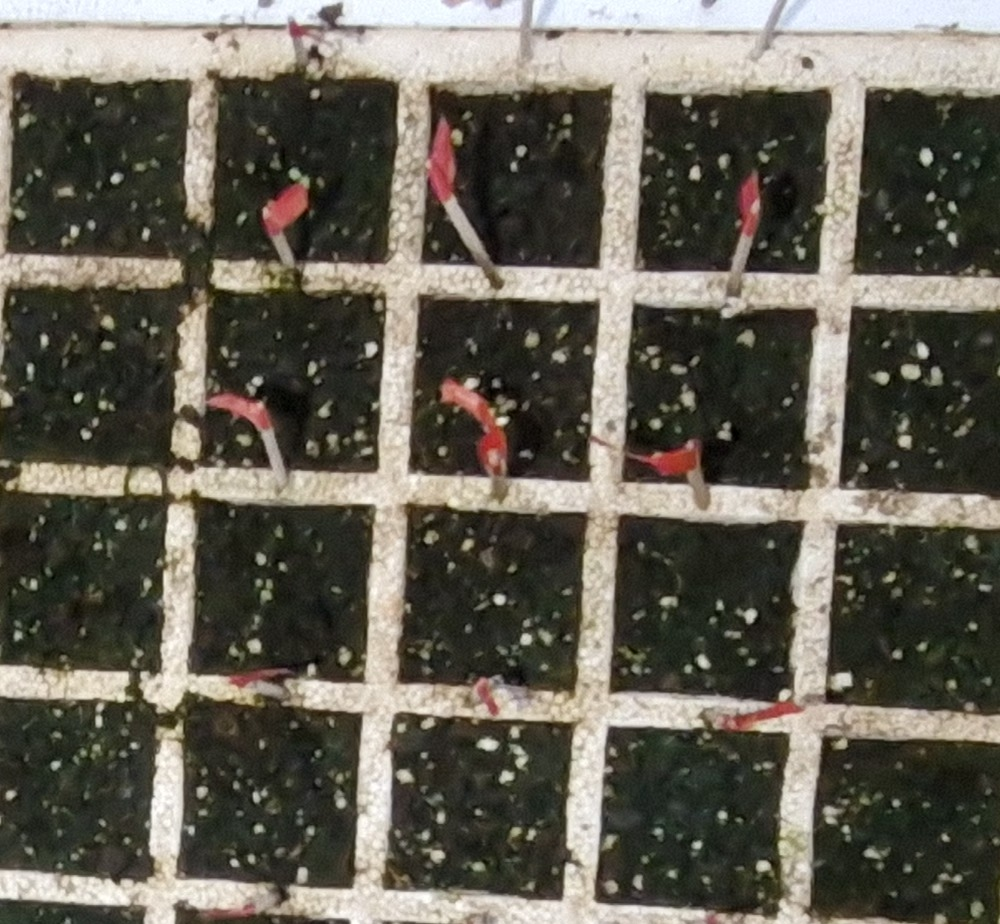Folha: (289, 167, 302, 181), (299, 175, 311, 190)
Germinacao: (288, 167, 310, 188)
